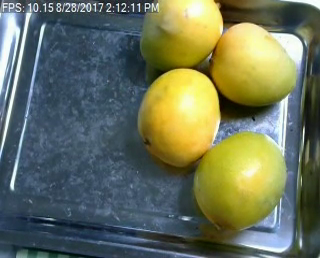Mango: (194, 133, 287, 229), (136, 67, 216, 161), (209, 22, 298, 103), (140, 0, 223, 69)
